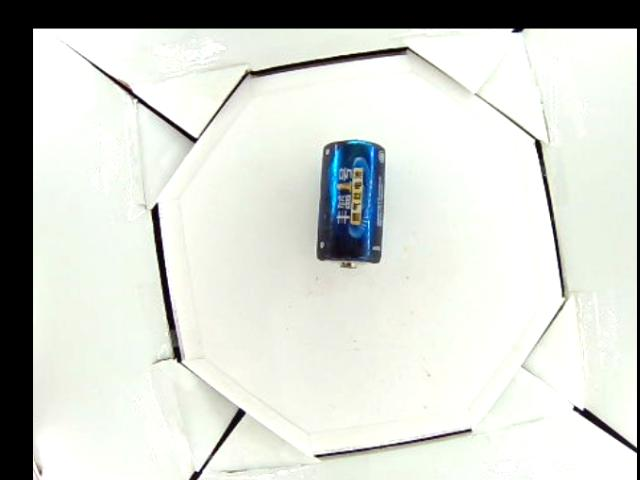Battery: (316, 139, 385, 269)
